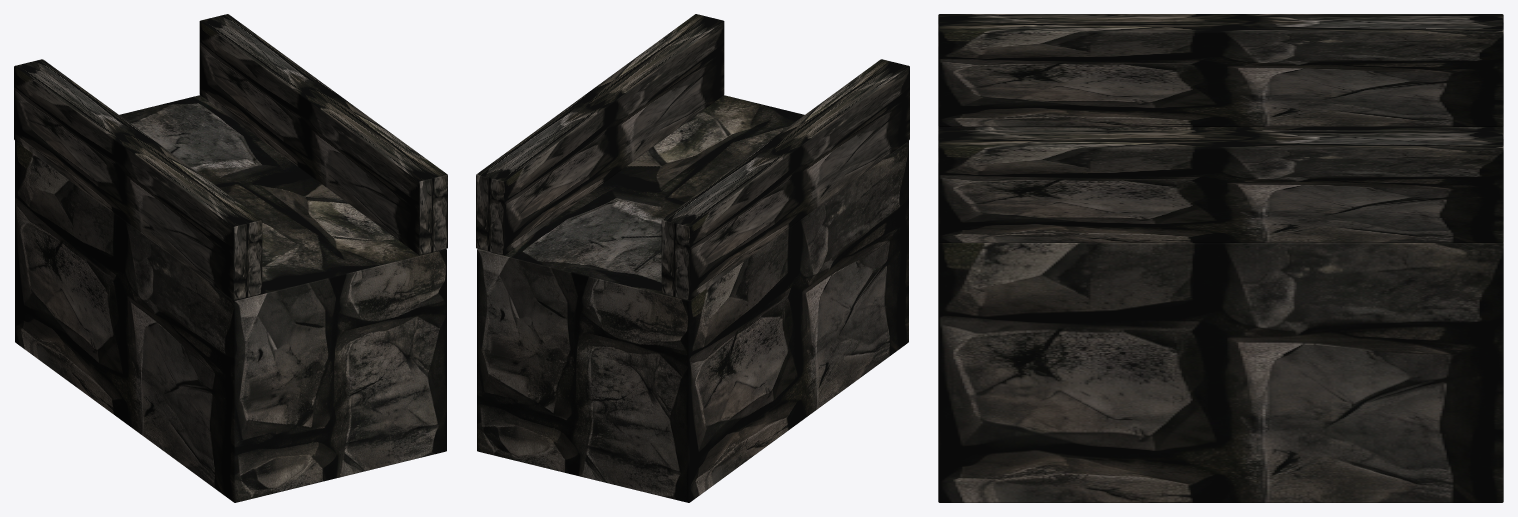
Rendered from fortress_wallwalk_straight_6m_LOD2.glb.
3 views of the same model, side by side, from view 1: azimuth 30°, elevation 25°; view 2: azimuth 150°, elevation 25°; view 3: azimuth 270°, elevation 25° (orthographic). The views are drawn at different scales.
Parts seen in each view (by area): view 1: LOD2_Wall, LOD2_Parapet.001, LOD2_Parapet; view 2: LOD2_Wall, LOD2_Parapet.001, LOD2_Parapet; view 3: LOD2_Wall, LOD2_Parapet, LOD2_Parapet.001.
Part boxes in pixels (x1,y1,x2,y2): LOD2_Wall: (15, 95, 446, 502); LOD2_Parapet.001: (199, 14, 447, 255); LOD2_Parapet: (14, 59, 262, 300); LOD2_Wall: (477, 95, 908, 502); LOD2_Parapet.001: (476, 14, 724, 255); LOD2_Parapet: (661, 59, 909, 300); LOD2_Wall: (938, 126, 1503, 502); LOD2_Parapet: (938, 14, 1503, 126); LOD2_Parapet.001: (938, 130, 1503, 242).
Bounding box in the file's own units: 3.38 × 4.17 × 6.
Materials: 1 (1 with a texture image).
